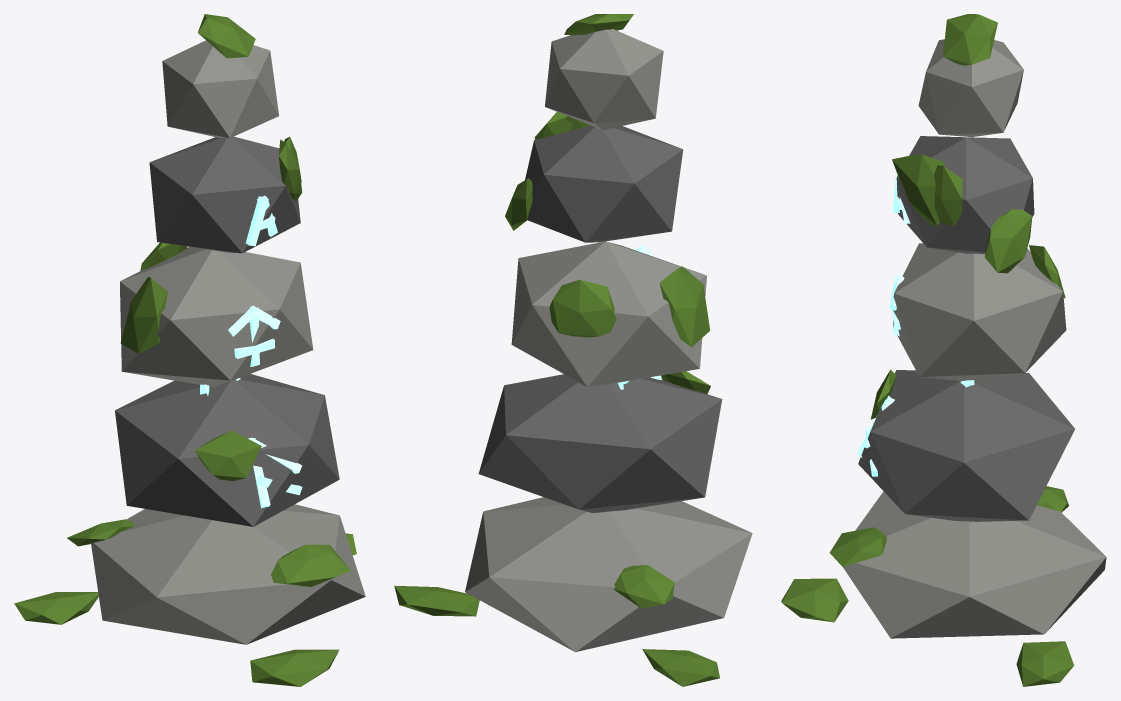
File: Totem_Stone.fbx
3 views of the same model, side by side, from view 1: azimuth 30°, elevation 25°; view 2: azimuth 150°, elevation 25°; view 3: azimuth 270°, elevation 25° (orthographic). The views are drawn at different scales.
Visible parts, largest first — view 1: Totem_Stone; view 2: Totem_Stone; view 3: Totem_Stone.
Part boxes in pixels (<box>): Totem_Stone: <box>14,14,365,686</box>; Totem_Stone: <box>394,14,752,686</box>; Totem_Stone: <box>781,14,1106,686</box>.
Bounding box in the file's own units: 67.53 × 119 × 58.94.
